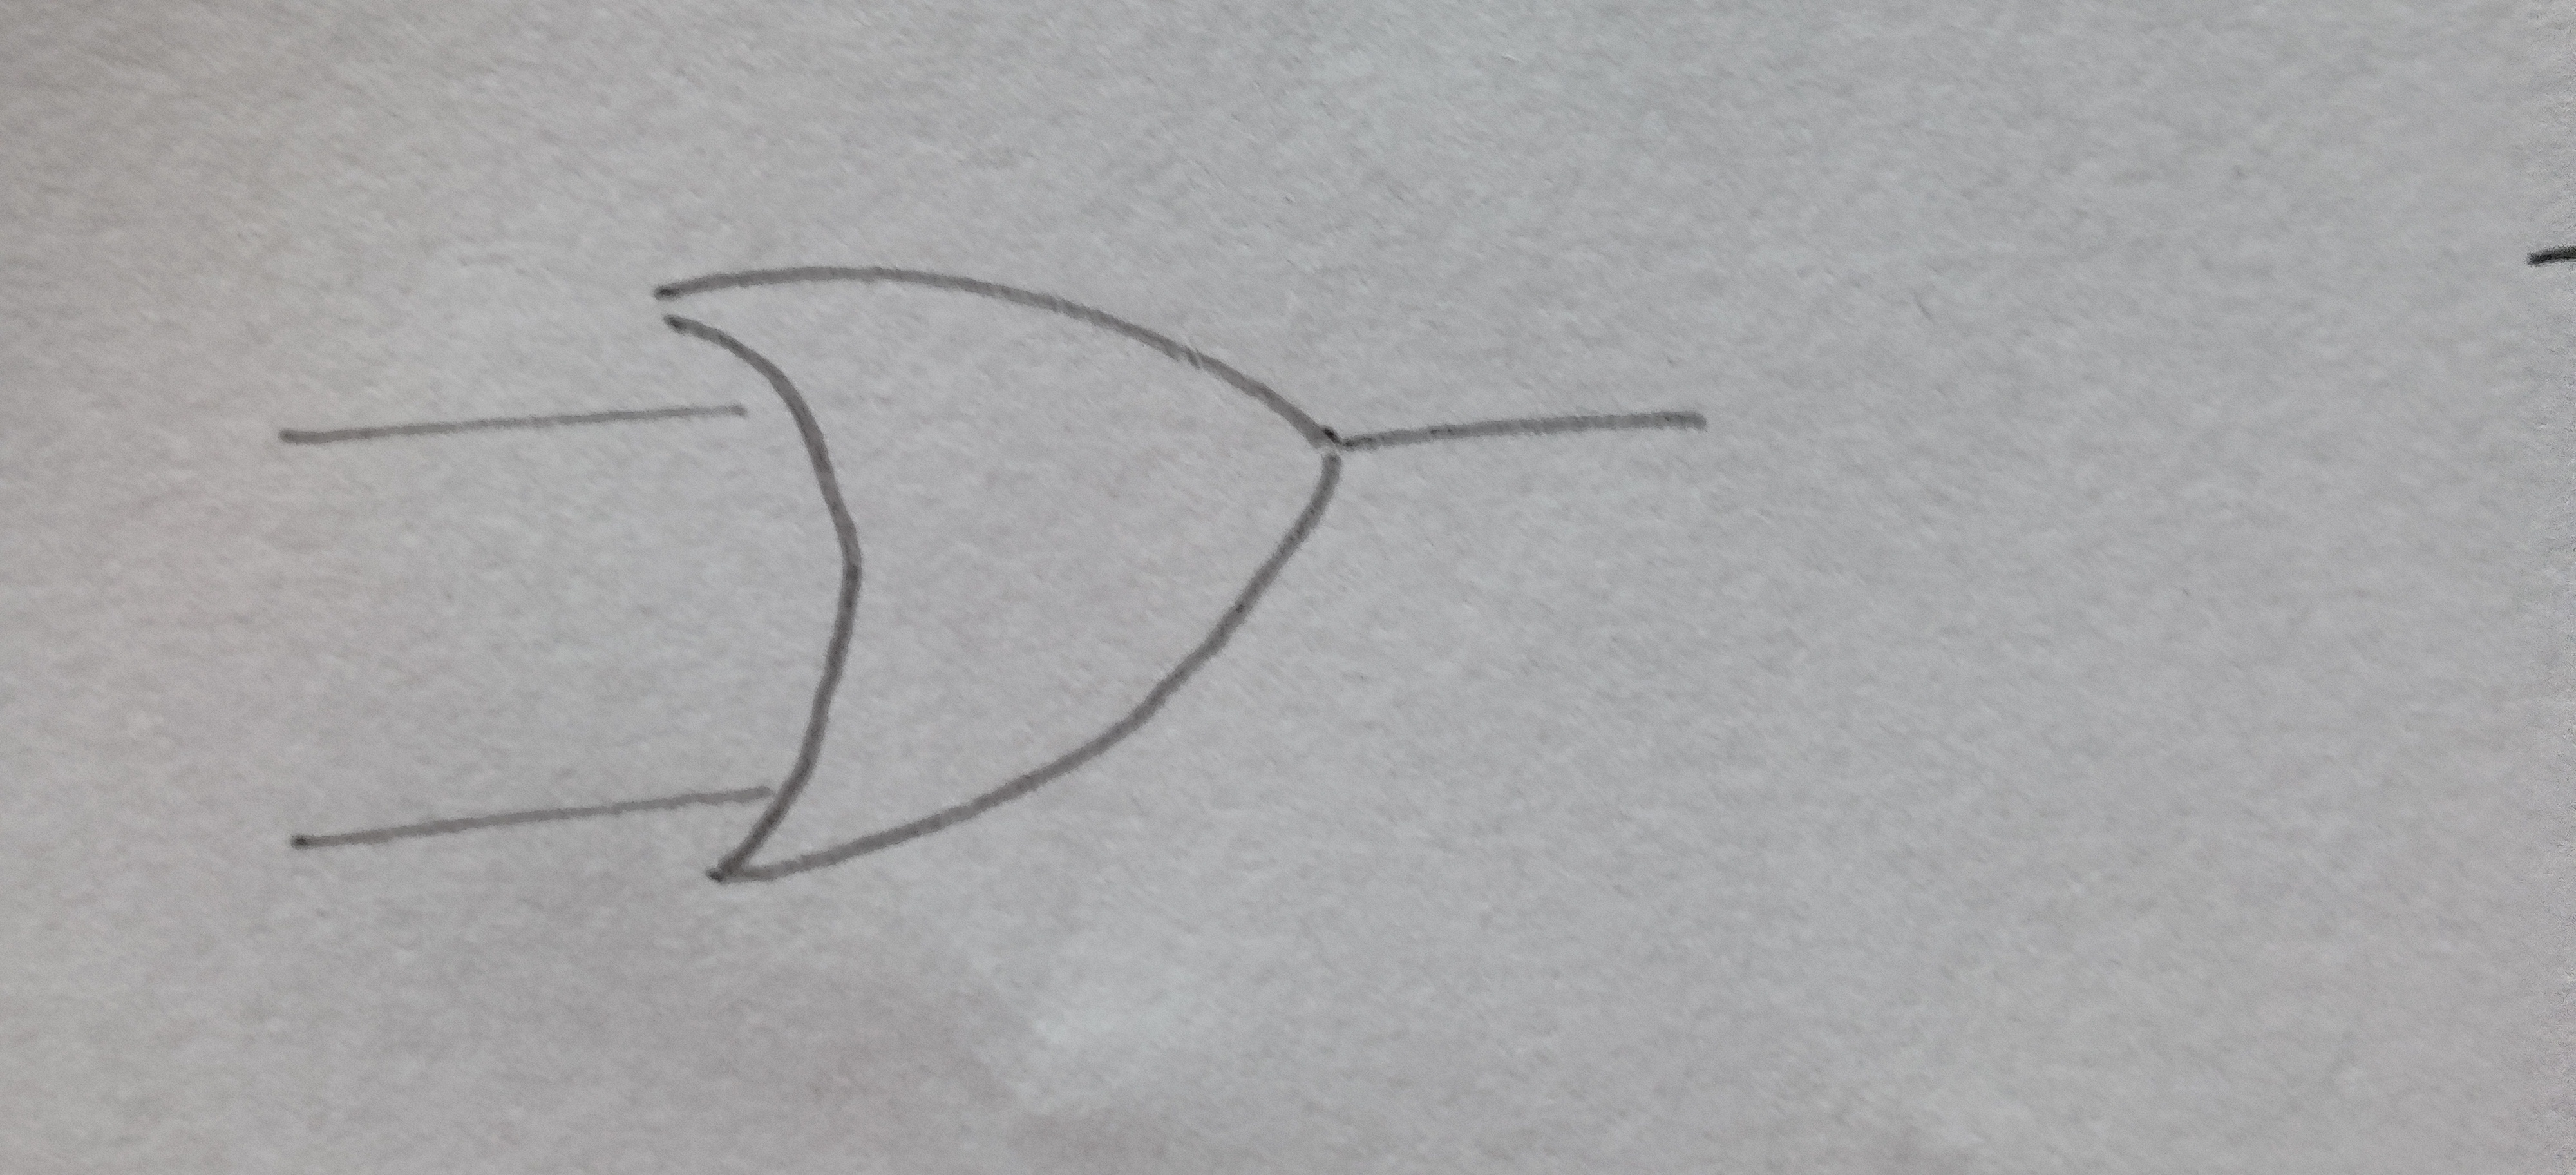or: (662, 270, 1344, 886)
